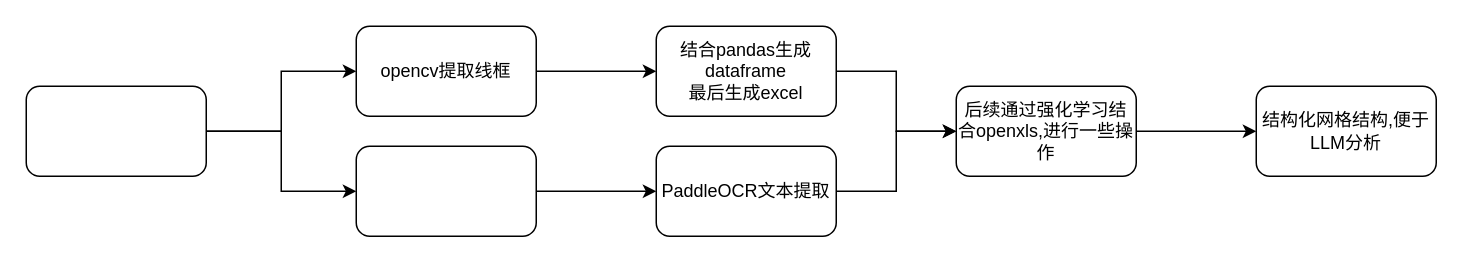
The diagram is 1463 pixels wide and 263 high, and some of its shapes have lost their labels. The box of each missing label's shape, as (x1, y1, x2, y2) in pixels:
YOLO分割框线: (355, 145, 536, 236)
表格输入: (25, 85, 206, 176)
